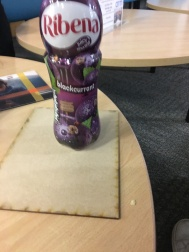bottle_purple: (34, 1, 116, 152)
